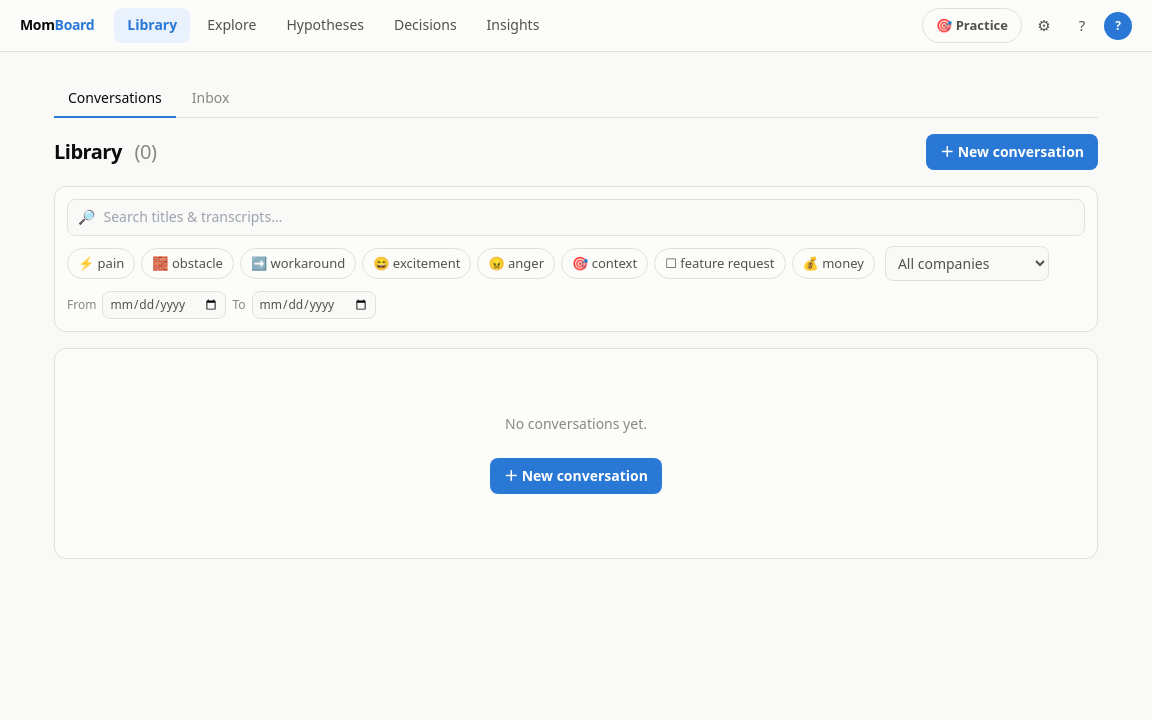
Test: T15 — Multi-tag filter › selecting two tags sends repeated tag= params and narrows results
Expected: the field with placeholder "Search titles & transcripts…" is shown, x1=104 y1=207 x2=1074 y2=227
Click first tag: ⚡ pain
Click the button "⚡ pain" at (101, 263), box x1=67 y1=248 x2=135 y2=279
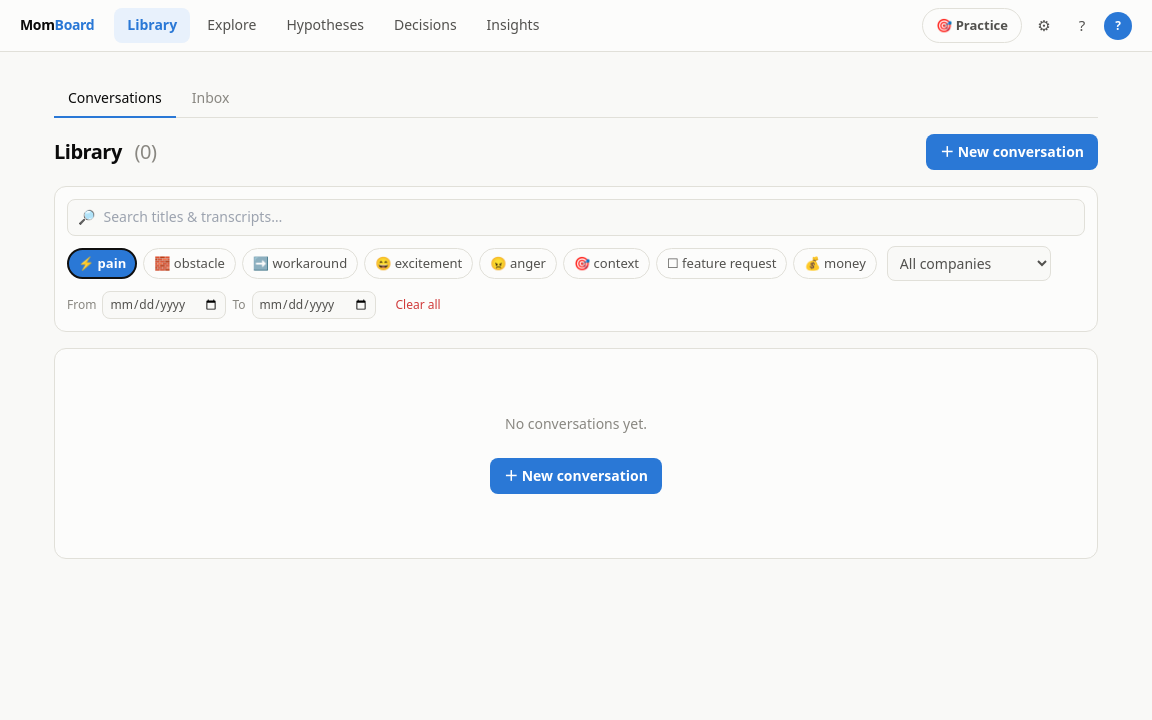
Click second tag: 💰 money
Click the button "💰 money" at (835, 263), box x1=794 y1=248 x2=877 y2=279
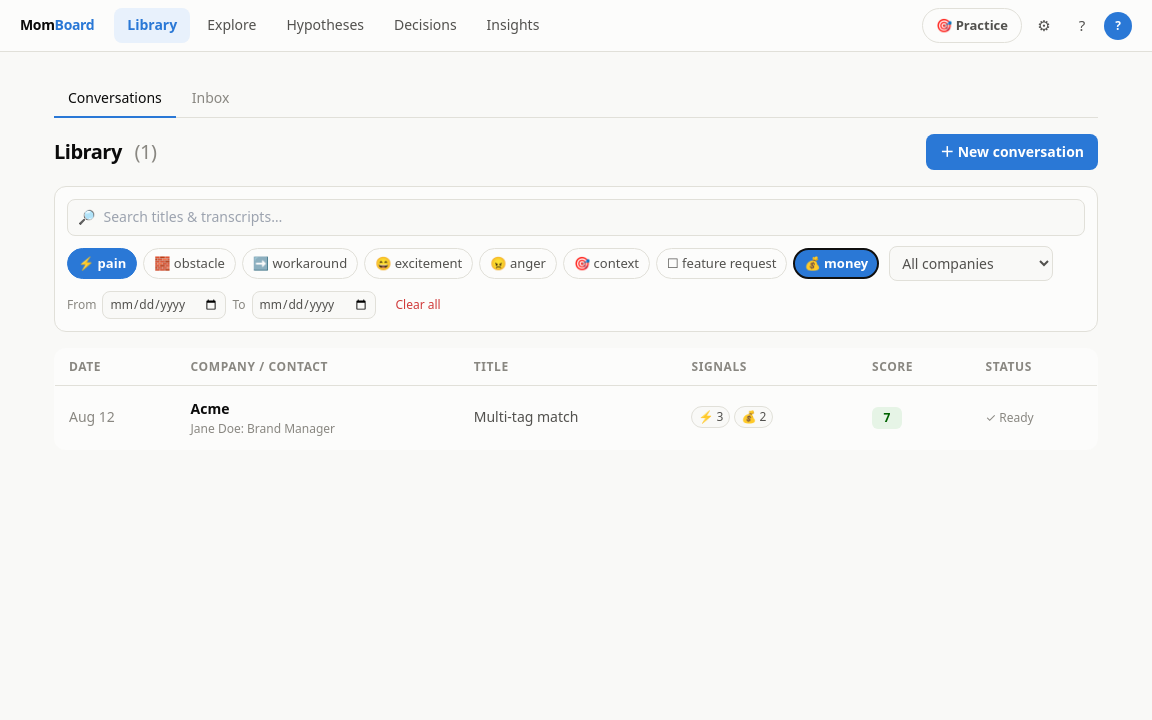
Now the text "Multi-tag match" is shown, box x1=460 y1=385 x2=678 y2=449
